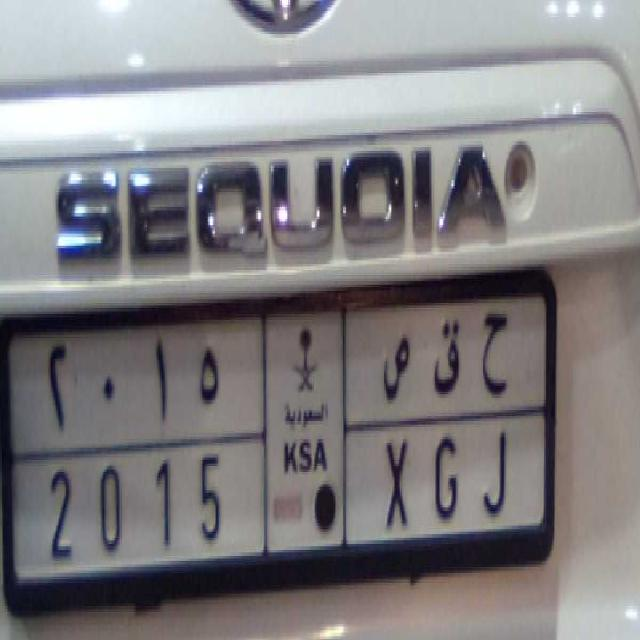license_plate: (29, 430, 522, 576)
